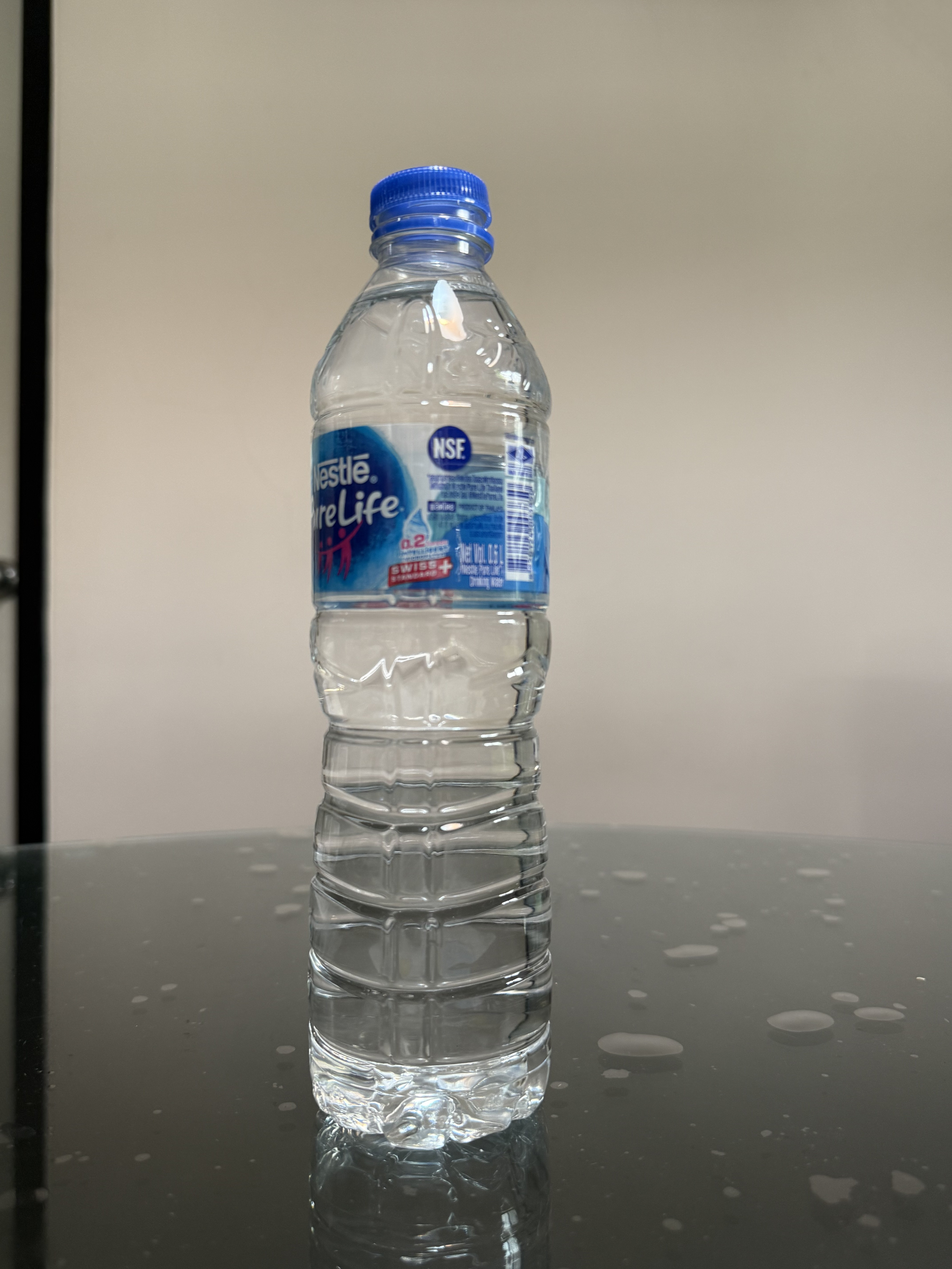half_cap: (365, 161, 496, 262)
